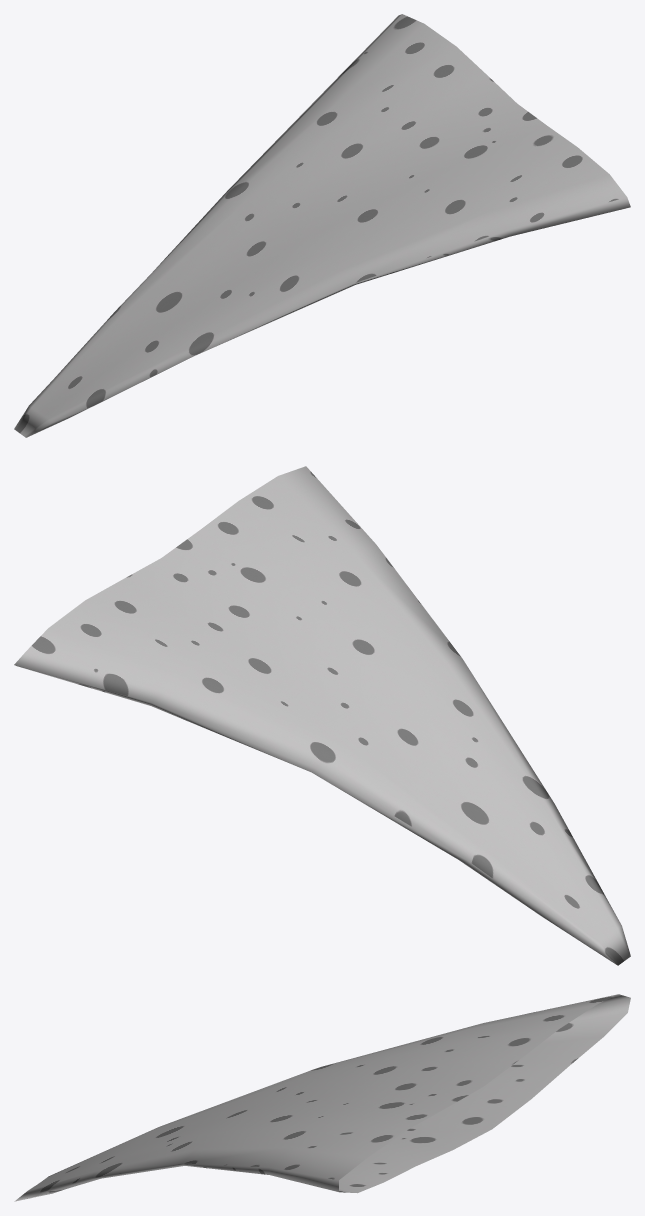
The model's file is aletaDerManta2.obj.
3 renders of one model, top to bottom at view 1: azimuth 30°, elevation 25°; view 2: azimuth 150°, elevation 25°; view 3: azimuth 330°, elevation 25°, orthographic. The views are drawn at different scales.
Visible parts, largest first — view 1: aletaDerManta1:Box01; view 2: aletaDerManta1:Box01; view 3: aletaDerManta1:Box01.
Part boxes in pixels (x1,y1,x2,y2): aletaDerManta1:Box01: (14,14,630,437); aletaDerManta1:Box01: (14,466,630,965); aletaDerManta1:Box01: (14,994,630,1201).
Size of the model in its own units: 6.17 by 3.04 by 5.62.
1 material, 1 textured.
